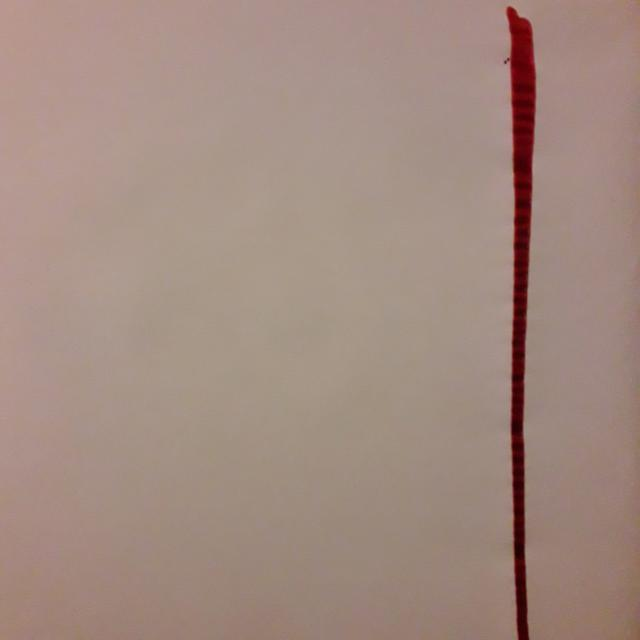wound: (474, 0, 572, 640)
